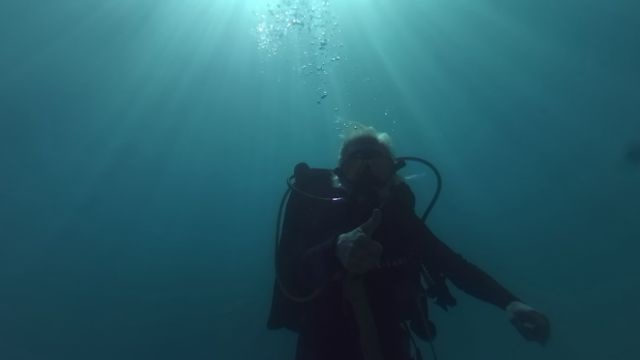Diver: (260, 122, 558, 354)
Hand: (491, 296, 553, 340)
